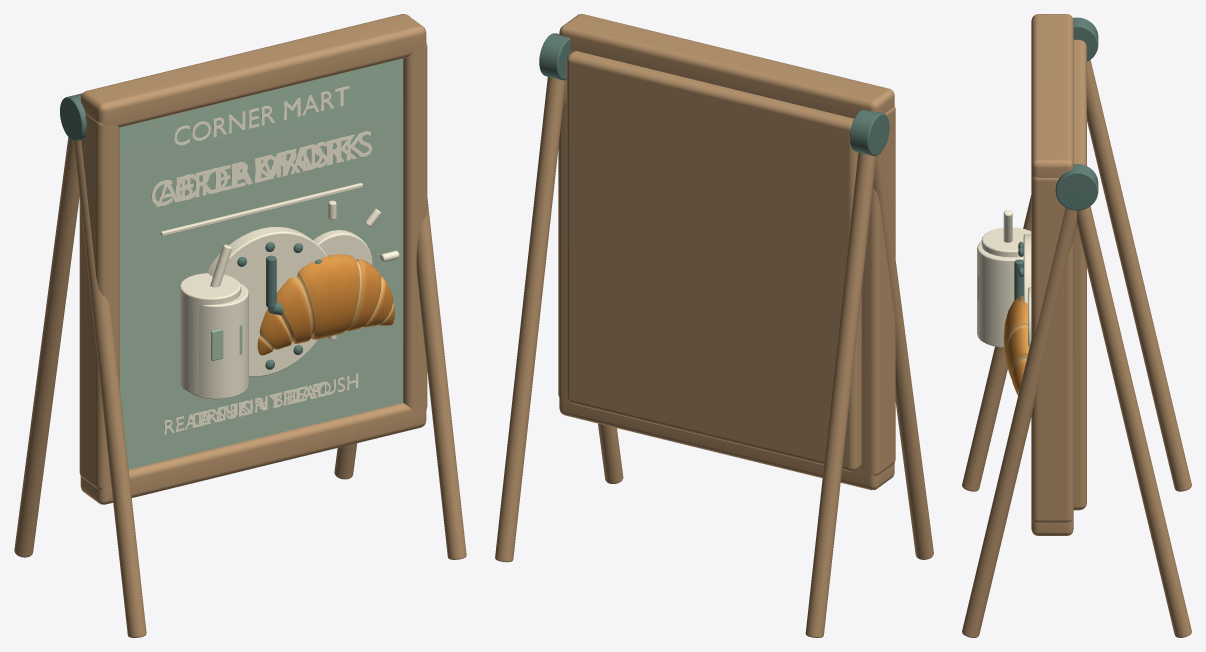
The model's file is day-sign.glb.
The picture shows the model from 3 angles, left to right: view 1: azimuth 30°, elevation 25°; view 2: azimuth 150°, elevation 25°; view 3: azimuth 270°, elevation 25°; orthographic projection. The views are drawn at different scales.
Visible parts, largest first — view 1: sign.panel.breakfast, sign.rail.1.135, sign.frame.-0.375, sign.rail.0.265, sign.bread, sign.leg.front.-0.39, sign.frame.0.375, sign.leg.rear.-0.39, sign.leg.front.0.39, sign.clock, sign.cold.cup, sign.can (+11 smaller); view 2: sign.back, sign.rail.1.135, sign.frame.-0.375, sign.leg.rear.0.39, sign.leg.rear.-0.39, sign.leg.front.-0.39, sign.rail.0.265, sign.frame.0.375, sign.hinge.-0.34, sign.hinge.0.34, sign.leg.front.0.39; view 3: sign.frame.0.375, sign.leg.rear.0.39, sign.leg.rear.-0.39, sign.leg.front.0.39, sign.rail.1.135, sign.back, sign.cold.cup, sign.leg.front.-0.39, sign.bread, sign.hinge.0.34, sign.can, sign.hinge.-0.34 (+3 smaller).
Part boxes in pixels (box(x1,y1,x2,y2)): sign.panel.breakfast: box(119, 58, 403, 469); sign.rail.1.135: box(80, 14, 426, 127); sign.frame.-0.375: box(79, 113, 119, 489); sign.rail.0.265: box(80, 403, 426, 504); sign.bread: box(257, 254, 394, 355); sign.leg.front.-0.39: box(73, 140, 146, 637); sign.frame.0.375: box(403, 43, 427, 411); sign.leg.rear.-0.39: box(14, 137, 79, 557); sign.leg.front.0.39: box(416, 198, 466, 559); sign.clock: box(205, 226, 327, 376); sign.cold.cup: box(186, 283, 248, 399); sign.can: box(179, 273, 241, 394); sign.back: box(566, 51, 861, 471); sign.rail.1.135: box(559, 14, 894, 118); sign.frame.-0.375: box(860, 106, 895, 475); sign.leg.rear.0.39: box(495, 76, 565, 562); sign.leg.rear.-0.39: box(805, 152, 876, 637); sign.leg.front.-0.39: box(873, 152, 933, 559); sign.rail.0.265: box(559, 397, 894, 490); sign.frame.0.375: box(558, 49, 572, 398); sign.hinge.-0.34: box(850, 109, 889, 155); sign.hinge.0.34: box(539, 33, 570, 80); sign.leg.front.0.39: box(562, 80, 623, 483); sign.frame.0.375: box(1031, 177, 1073, 522); sign.leg.rear.0.39: box(1077, 206, 1191, 637); sign.leg.rear.-0.39: box(1087, 60, 1191, 491); sign.leg.front.0.39: box(962, 208, 1076, 637); sign.rail.1.135: box(1031, 14, 1073, 178); sign.back: box(1073, 39, 1086, 510); sign.cold.cup: box(977, 241, 1023, 347); sign.leg.front.-0.39: box(962, 195, 1031, 491); sign.bread: box(1003, 295, 1029, 395); sign.hinge.0.34: box(1055, 164, 1098, 210); sign.can: box(981, 227, 1031, 257); sign.hinge.-0.34: box(1073, 17, 1098, 61).
Bounding box in the file's own units: 0.828 × 1.18 × 0.5176.
